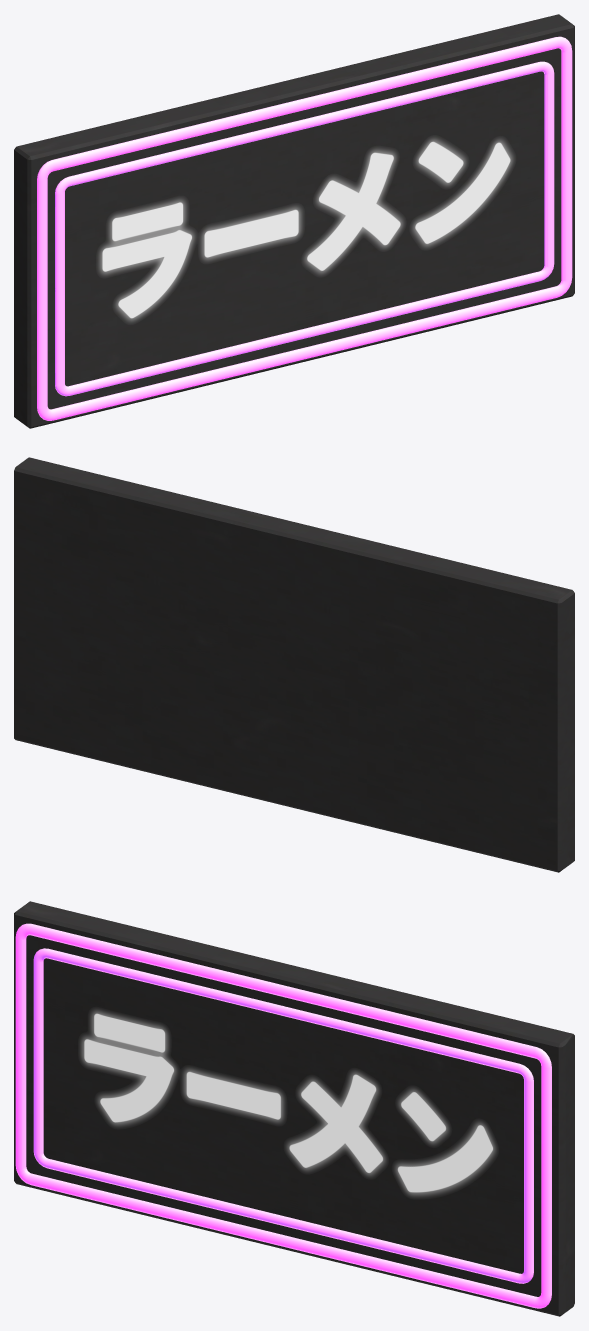
The model's file is cyberpunk-diner-sign-ramen.glb.
The picture shows the model from 3 angles, top to bottom: view 1: azimuth 30°, elevation 25°; view 2: azimuth 150°, elevation 25°; view 3: azimuth 330°, elevation 25°; orthographic projection.
Visible parts, largest first — view 1: Object_4, TextPlate, Object_2, Object_3; view 2: Object_4; view 3: Object_4, TextPlate, Object_2, Object_3.
Boxes of the visible parts, x1,y1,x2,y2 form: Object_4: (14, 14, 574, 428); TextPlate: (98, 138, 513, 321); Object_2: (37, 36, 572, 420); Object_3: (55, 61, 554, 396); Object_4: (14, 457, 574, 872); Object_4: (14, 901, 574, 1316); TextPlate: (80, 1010, 496, 1196); Object_2: (15, 923, 551, 1308); Object_3: (33, 948, 533, 1283).
Size of the model in its own units: 18.05 by 8.58 by 1.18.
Materials: 4 (2 with a texture image).
